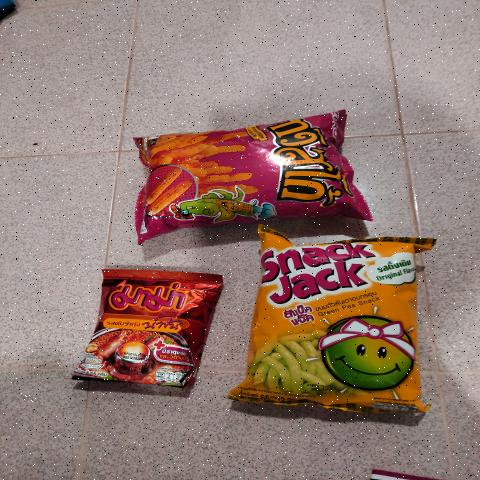mama: (107, 277, 191, 384)
snack_jack: (268, 243, 410, 400)
twisco: (154, 136, 338, 210)
